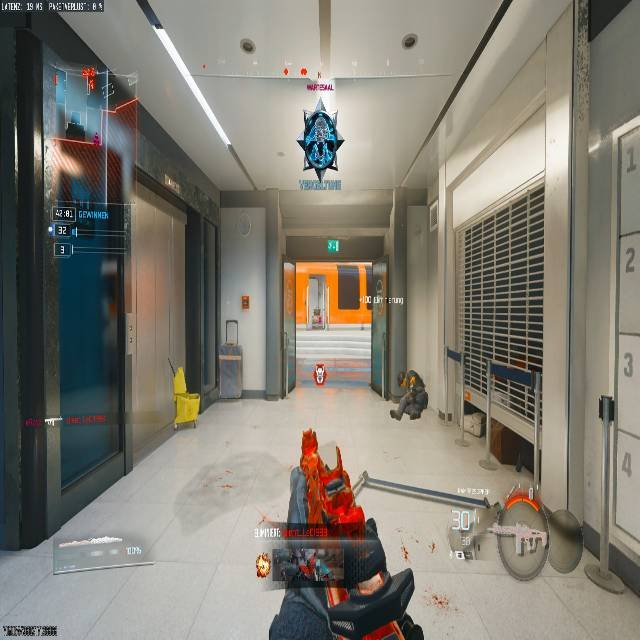head: (313, 98, 327, 112)
player: (296, 101, 343, 178)
